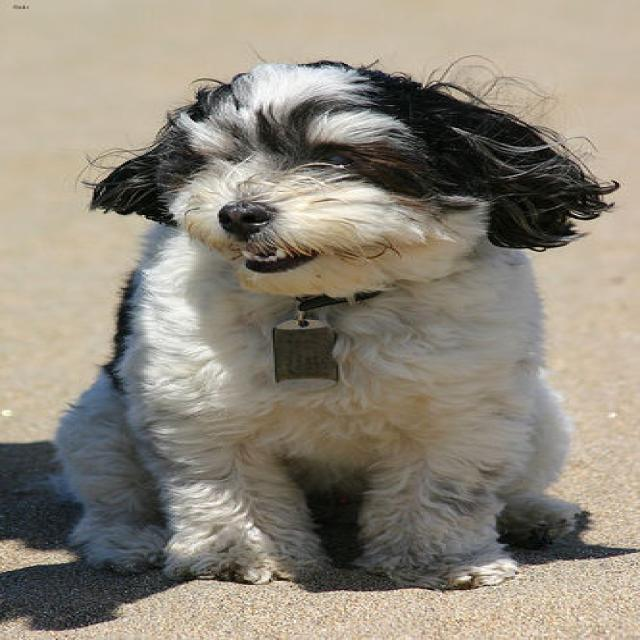dog-havanese: (35, 37, 625, 607)
